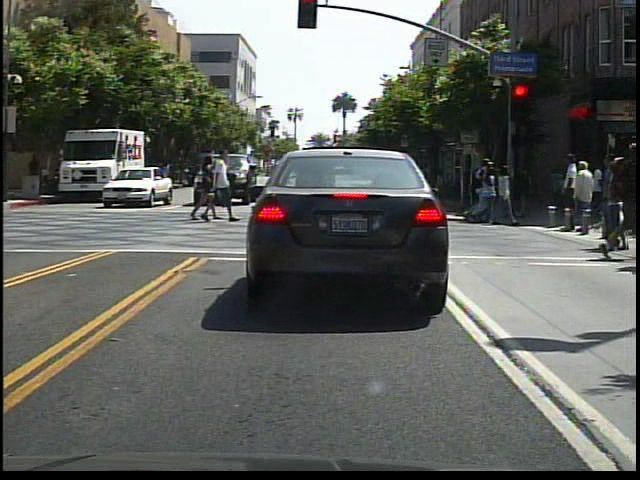person: (608, 136, 640, 258), (563, 157, 599, 241), (203, 152, 238, 228), (327, 155, 360, 216)
